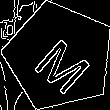M_NE: (25, 23, 94, 91)
